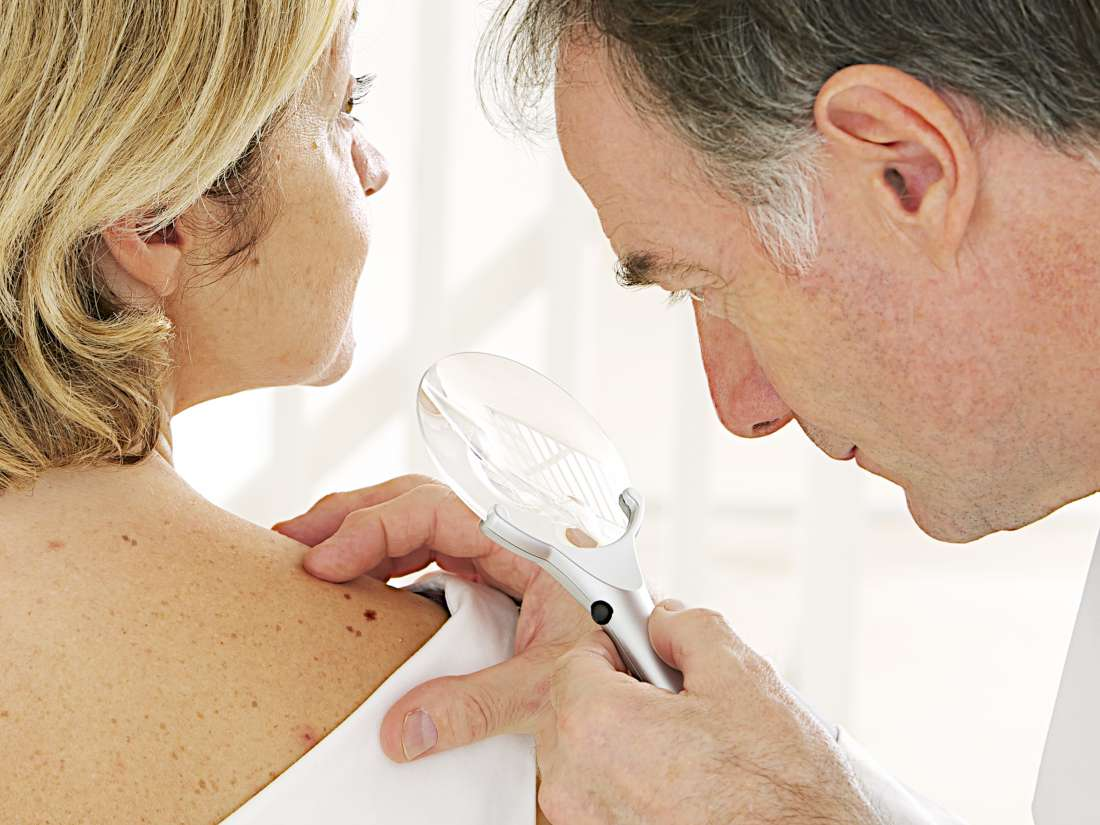mole: (243, 247, 267, 279), (358, 603, 387, 627)
